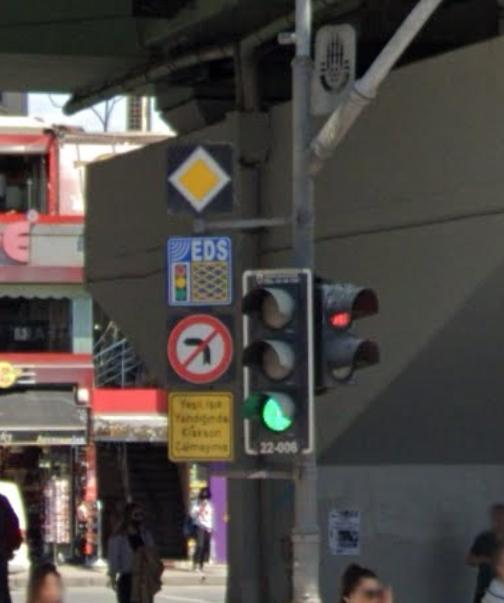greenlight: (243, 271, 310, 458)
leftturnsareforbidden: (166, 313, 233, 383)
redlight: (319, 279, 372, 398)
